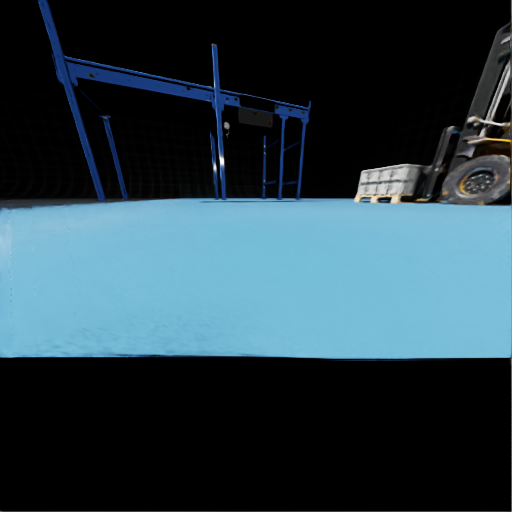transportation_area: (376, 180, 424, 194), (226, 98, 227, 99)
